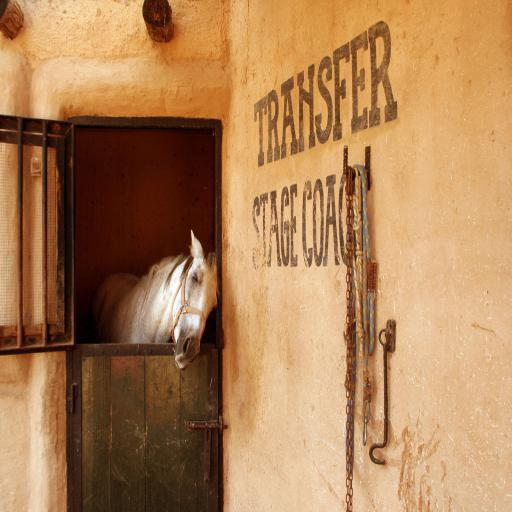horse: (88, 228, 220, 370)
